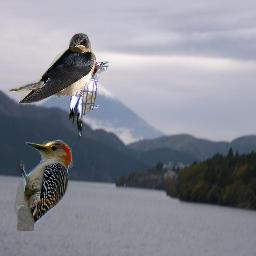Swallow: (8, 33, 96, 103)
Woodpecker: (14, 136, 84, 231), (69, 60, 110, 139)
